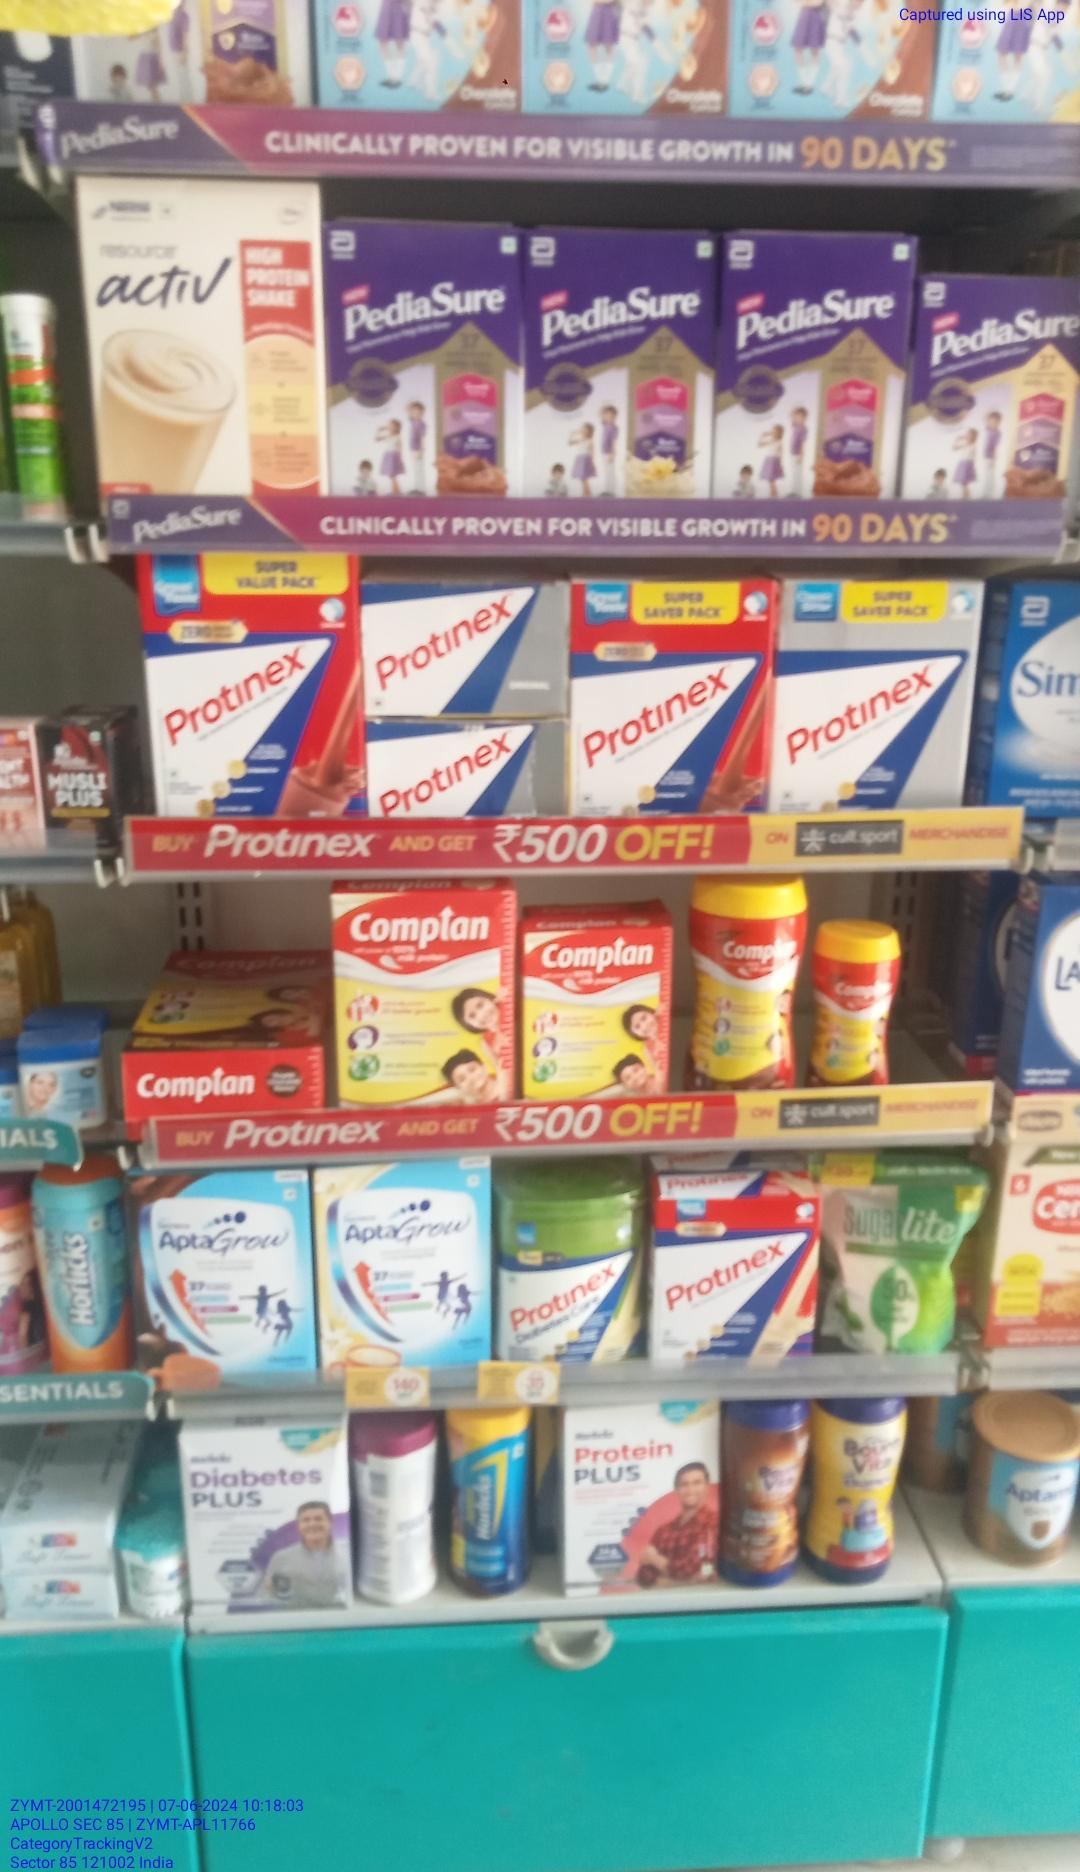BOURN_VITA_CHAMPS_500_G_JAR: (811, 1403, 905, 1574)
COMPLAN_CHOCOLATE_200_GMS_JAR: (818, 928, 901, 1086)
COMPLAN_CHOCOLATE_500_GMS_JAR: (692, 877, 805, 1092)
COMPLAN_KESAR_BADAM_200_GMS_PACK: (523, 915, 676, 1102)
HORLICKS_LITE_REGULAR_MALT_500_GM_JAR: (50, 1161, 126, 1368)
PEDIASURE_CHOCOLATE_500_G_PACK: (324, 219, 527, 503), (705, 229, 908, 513), (917, 274, 1079, 494)
PEDIASURE_VANILLA_500_G_PACK: (534, 226, 705, 501)
